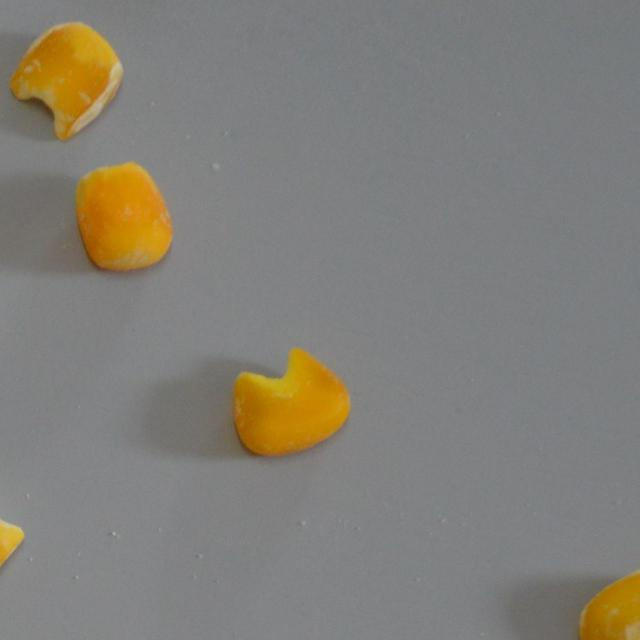pelicula: (10, 18, 123, 143), (232, 347, 350, 458), (74, 161, 175, 270), (578, 566, 640, 640), (0, 474, 24, 584)
